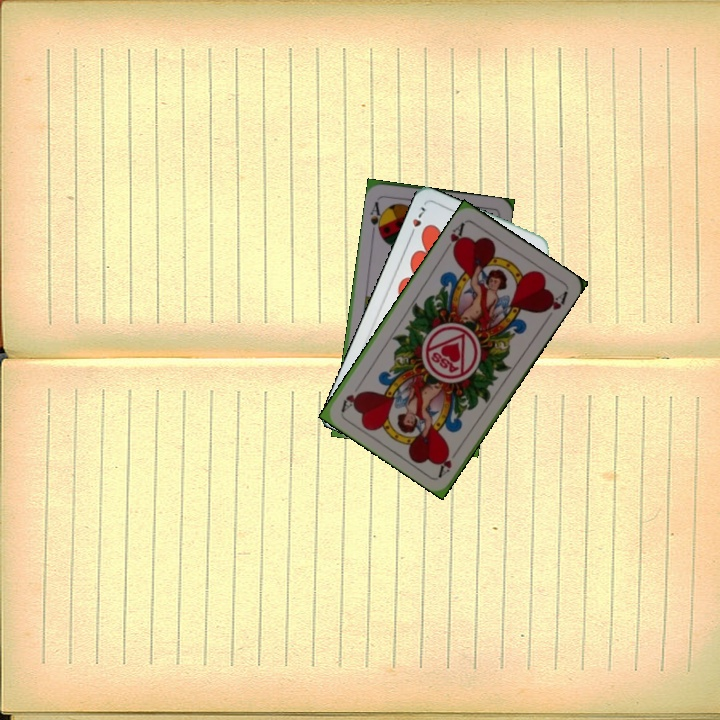H7: (406, 202, 428, 240)
HA: (440, 218, 467, 256), (434, 447, 454, 479)
SA: (366, 195, 386, 236)
